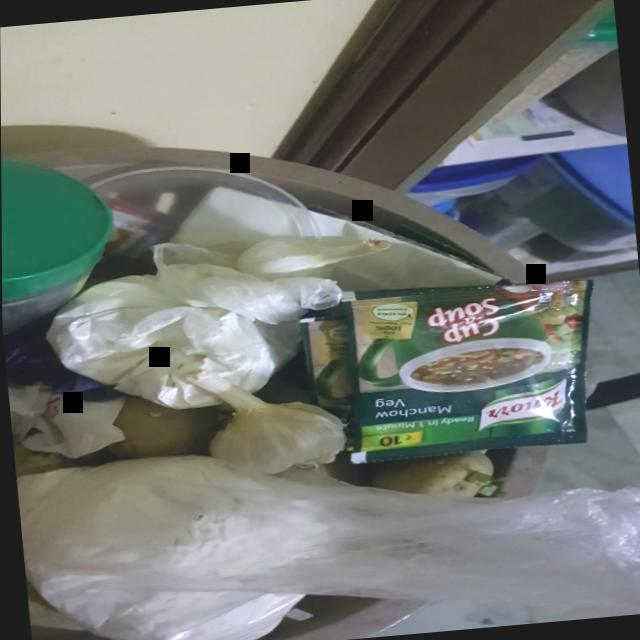garlic: (185, 354, 350, 479)
